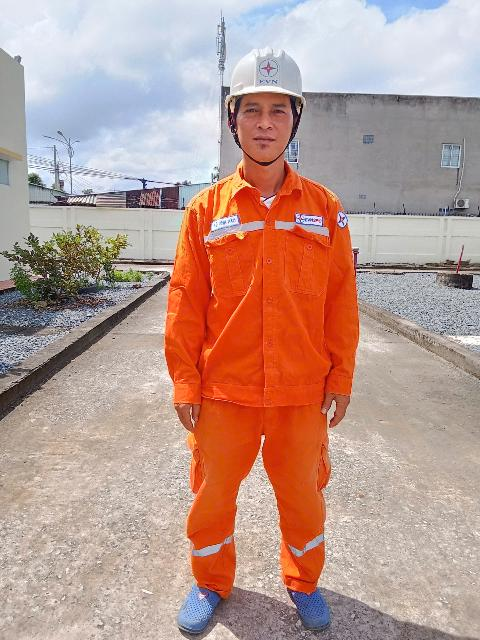helmet: (229, 44, 313, 109)
shoes: (161, 564, 240, 634), (282, 570, 347, 640)
